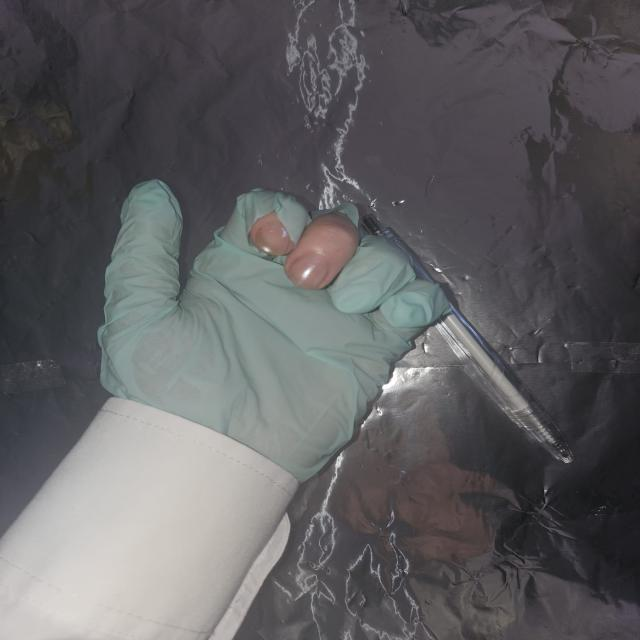gloves_damaged: (95, 177, 457, 488)
